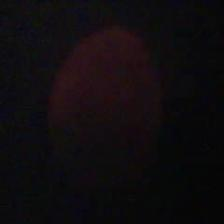fertile: (49, 26, 163, 192)
